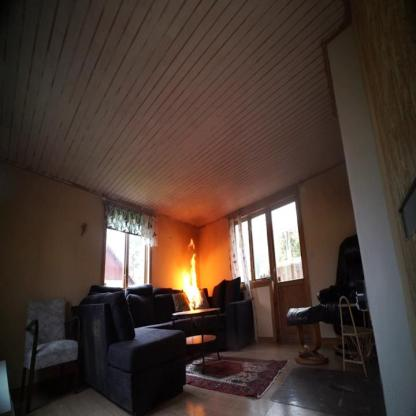fire: (180, 235, 204, 312)
